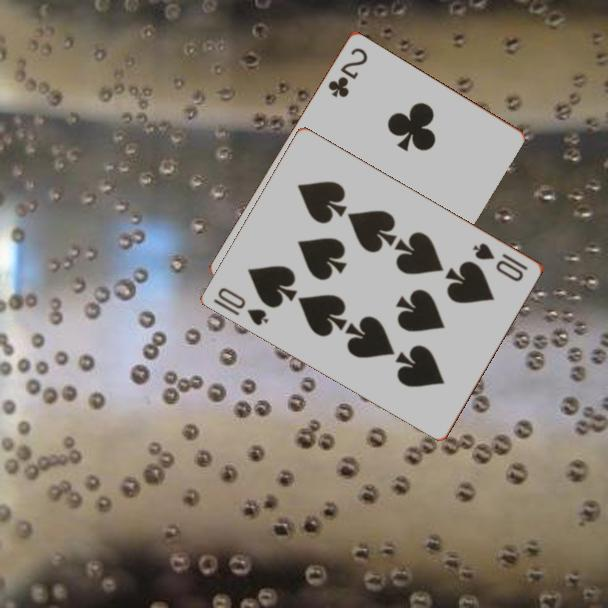c02: (324, 44, 371, 100)
s10: (469, 239, 531, 285), (210, 284, 272, 328)
